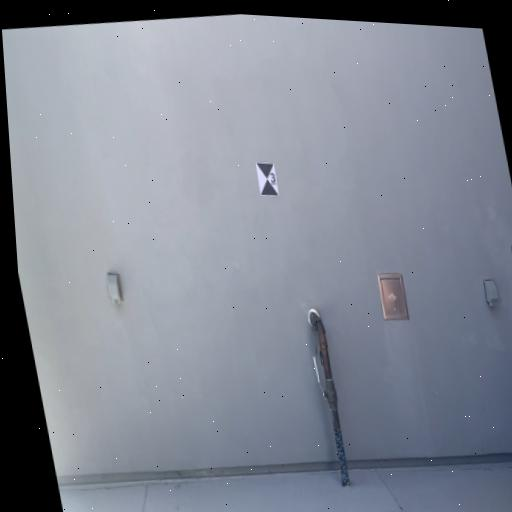target3: (255, 161, 280, 197)
